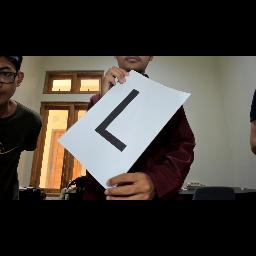l: (80, 84, 144, 152)
